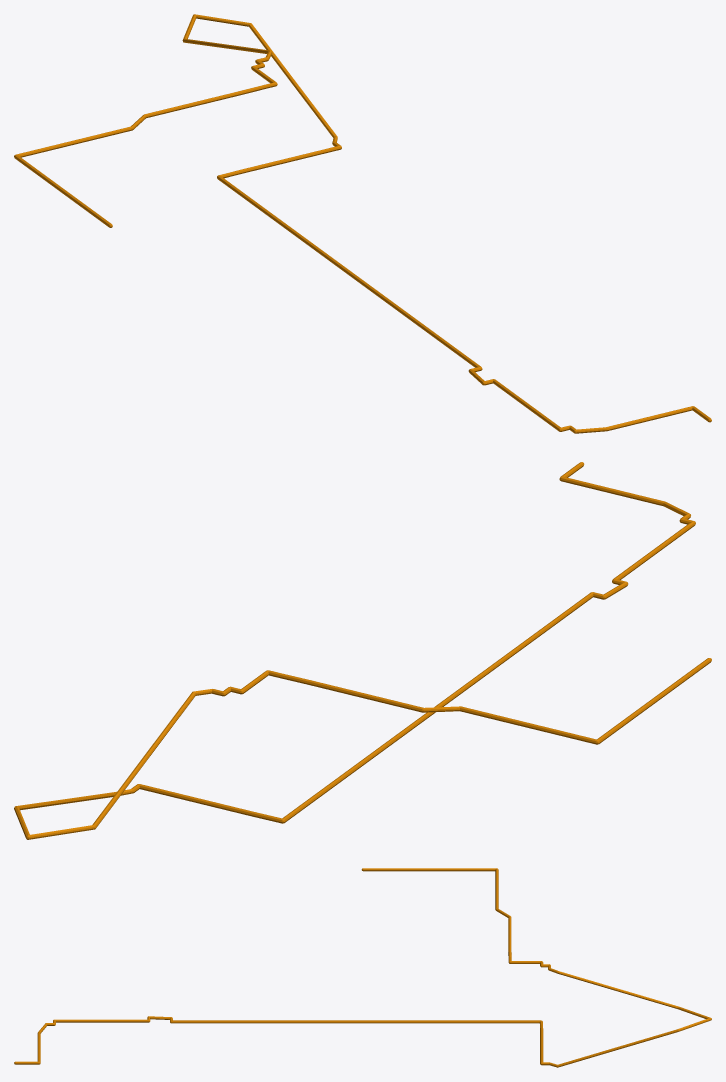
The picture shows the model from 3 angles, top to bottom: view 1: azimuth 30°, elevation 25°; view 2: azimuth 150°, elevation 25°; view 3: azimuth 270°, elevation 25°; orthographic projection. The views are drawn at different scales.
Bounding box in the file's own units: 1901 × 520 × 4435.
